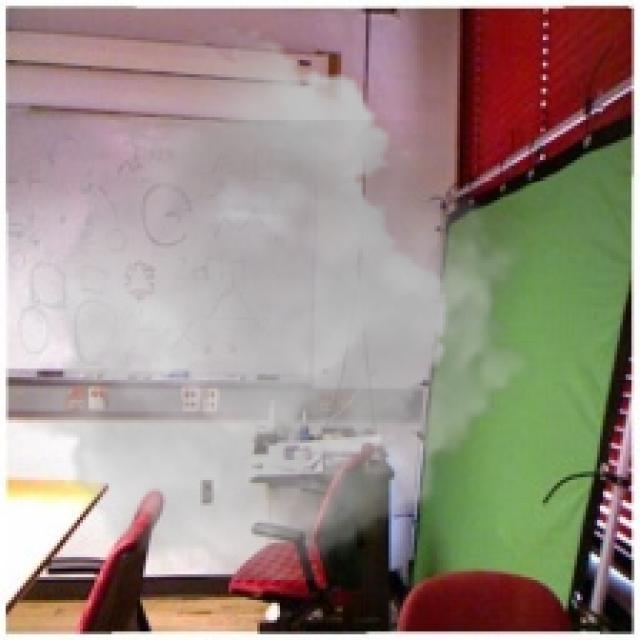smoke: (14, 29, 546, 580)
